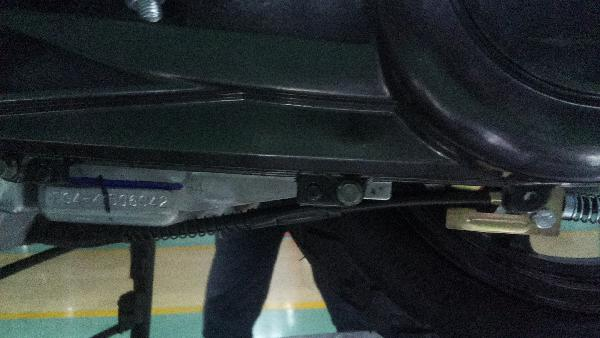box: (53, 190, 168, 209)
